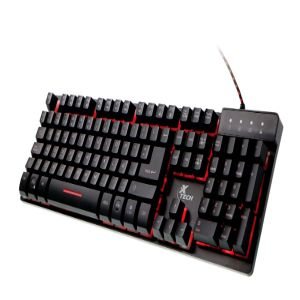keyboard: (18, 86, 285, 280)
